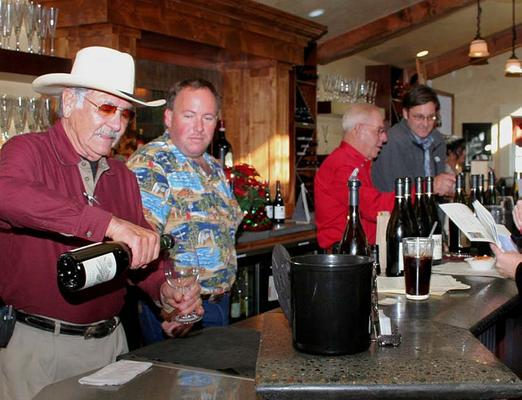person: (1, 48, 205, 400)
